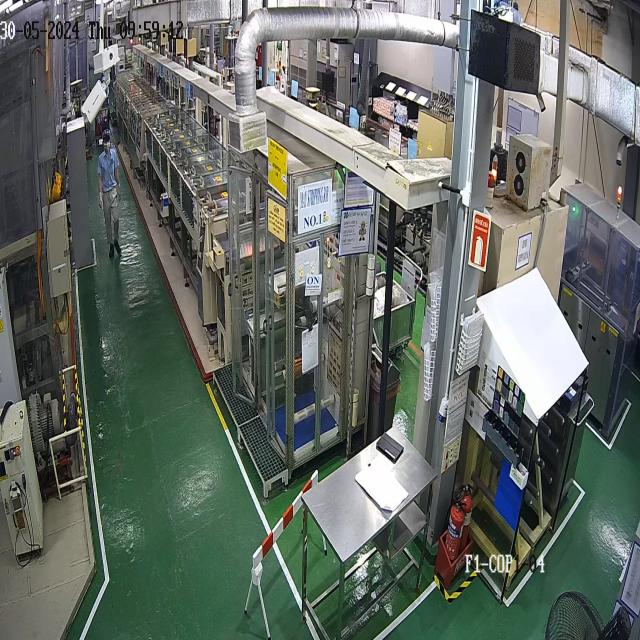Person: (97, 132, 122, 258)
